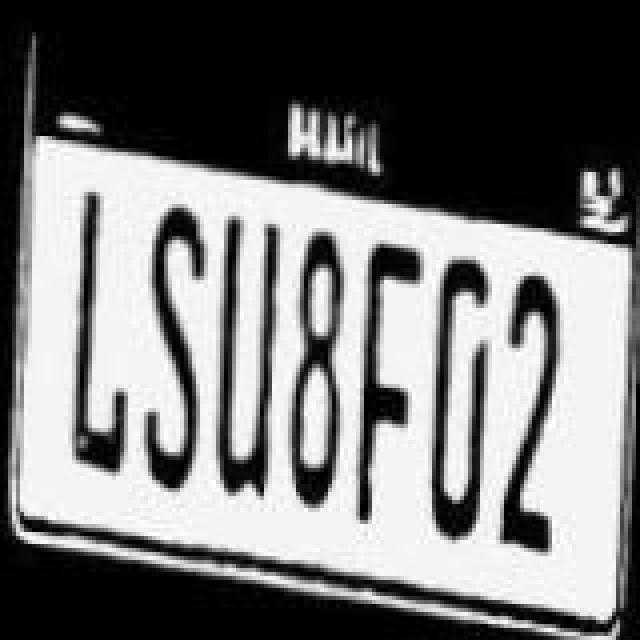2: (496, 270, 560, 554)
8: (282, 216, 350, 508)
D: (420, 252, 492, 544)
F: (348, 228, 420, 532)
L: (66, 186, 146, 478)
S: (142, 200, 214, 488)
U: (210, 210, 286, 502)
